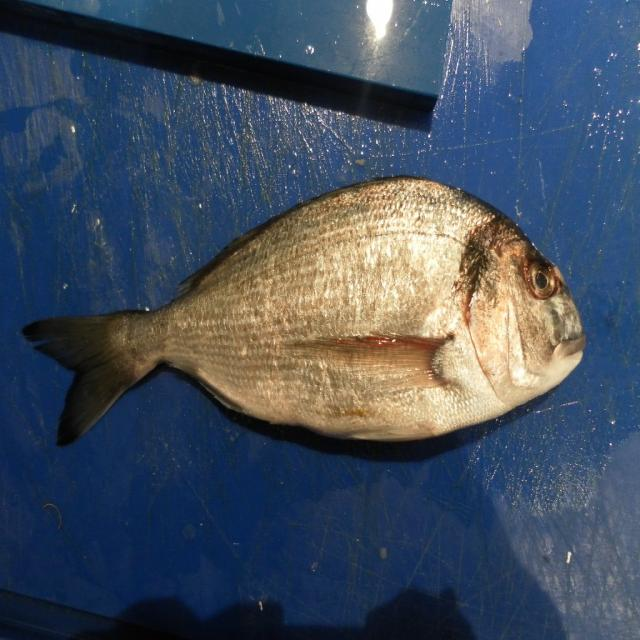Gilt-Head-Bream-c-ipura-: (21, 177, 586, 448)
